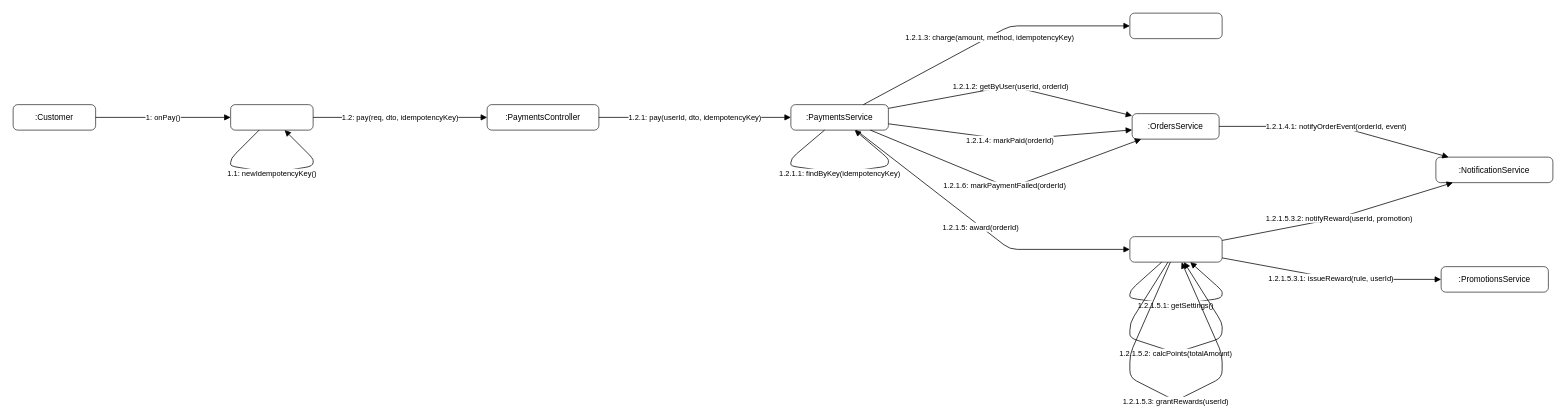
Image size: 1566x420. Some labels were removed from this diagram. Each missing label, with the centre of its shape:
":LoyaltyService" goes at point (1175, 249).
":PaymentGateway" goes at point (1175, 25).
":PaymentPage" goes at point (271, 117).
